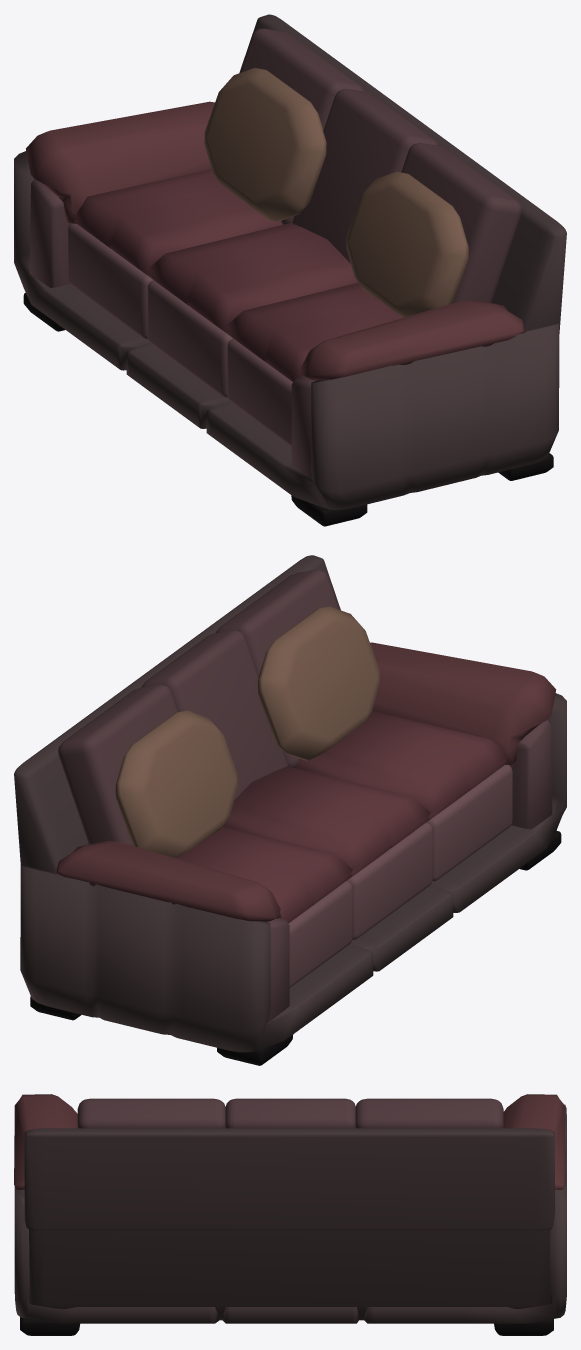
Rendered from CouchTest.fbx.
3 renders of one model, top to bottom at view 1: azimuth 30°, elevation 25°; view 2: azimuth 150°, elevation 25°; view 3: azimuth 270°, elevation 25°, orthographic. The views are drawn at different scales.
Visible parts, largest first — view 1: Cube.036; view 2: Cube.036; view 3: Cube.036.
Part boxes in pixels (box(x1,y1,x2,y2)): Cube.036: box(14, 14, 566, 526); Cube.036: box(14, 555, 566, 1065); Cube.036: box(14, 1094, 566, 1335).
Size of the model in its own units: 131 by 126 by 277.
